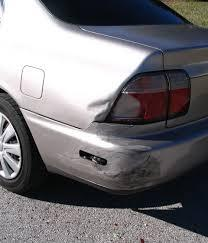Bumper: (28, 113, 201, 196)
Fender: (20, 34, 161, 129)
Light: (101, 71, 171, 124)
